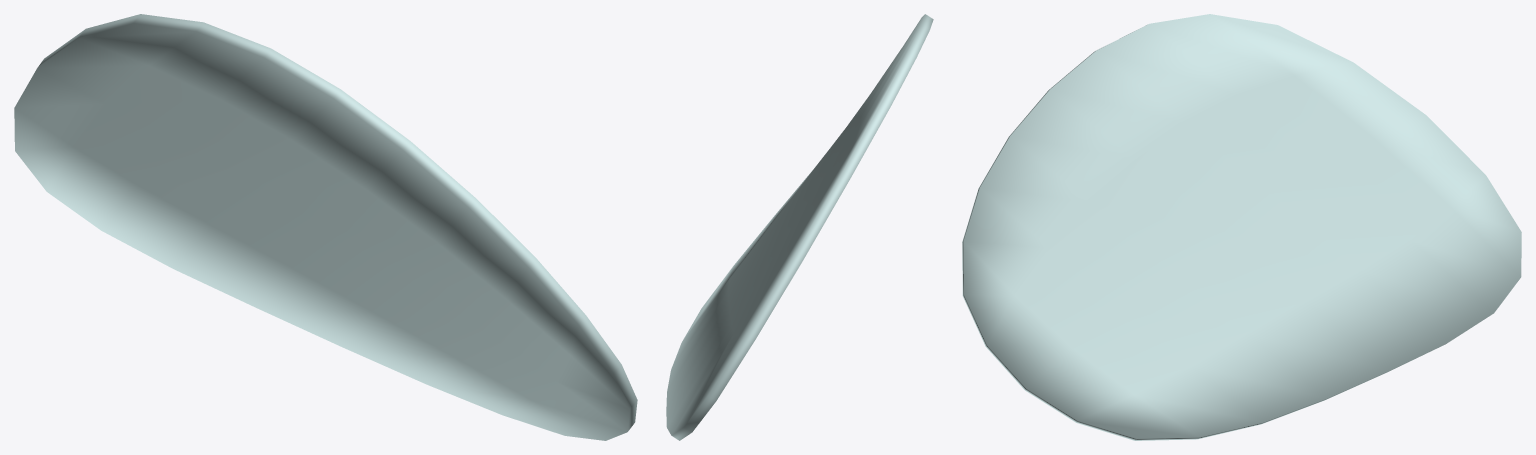
The model's file is Articular_disc_of_sternoclavicular_joint.l_Cube.057.glb.
The picture shows the model from 3 angles, left to right: view 1: azimuth 30°, elevation 25°; view 2: azimuth 150°, elevation 25°; view 3: azimuth 270°, elevation 25°; orthographic projection. The views are drawn at different scales.
Parts seen in each view (by area): view 1: Articular_disc_of_sternoclavicular_joint.l_Cube.057; view 2: Articular_disc_of_sternoclavicular_joint.l_Cube.057; view 3: Articular_disc_of_sternoclavicular_joint.l_Cube.057.
Boxes of the visible parts, x1,y1,x2,y2 form: Articular_disc_of_sternoclavicular_joint.l_Cube.057: (14,14,637,440); Articular_disc_of_sternoclavicular_joint.l_Cube.057: (666,14,933,440); Articular_disc_of_sternoclavicular_joint.l_Cube.057: (962,14,1521,440).
Size of the model in its own units: 0.0156 by 0.0199 by 0.031.
